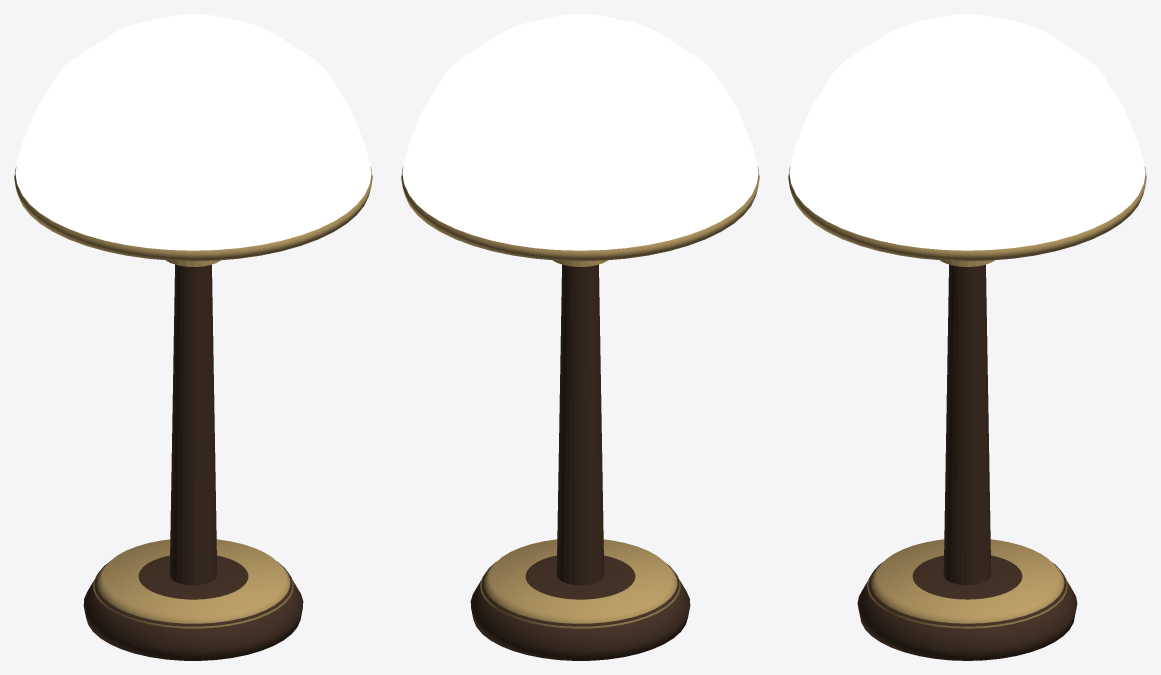
File: lamp_table_dome.fbx
3 views of the same model, side by side, from view 1: azimuth 30°, elevation 25°; view 2: azimuth 150°, elevation 25°; view 3: azimuth 270°, elevation 25° (orthographic).
Visible parts, largest first — view 1: lamp_table_dome; view 2: lamp_table_dome; view 3: lamp_table_dome.
Boxes of the visible parts, x1,y1,x2,y2 form: lamp_table_dome: [14, 14, 372, 660]; lamp_table_dome: [401, 14, 759, 660]; lamp_table_dome: [788, 14, 1146, 660].
Bounding box in the file's own units: 0.3 × 0.55 × 0.3.
